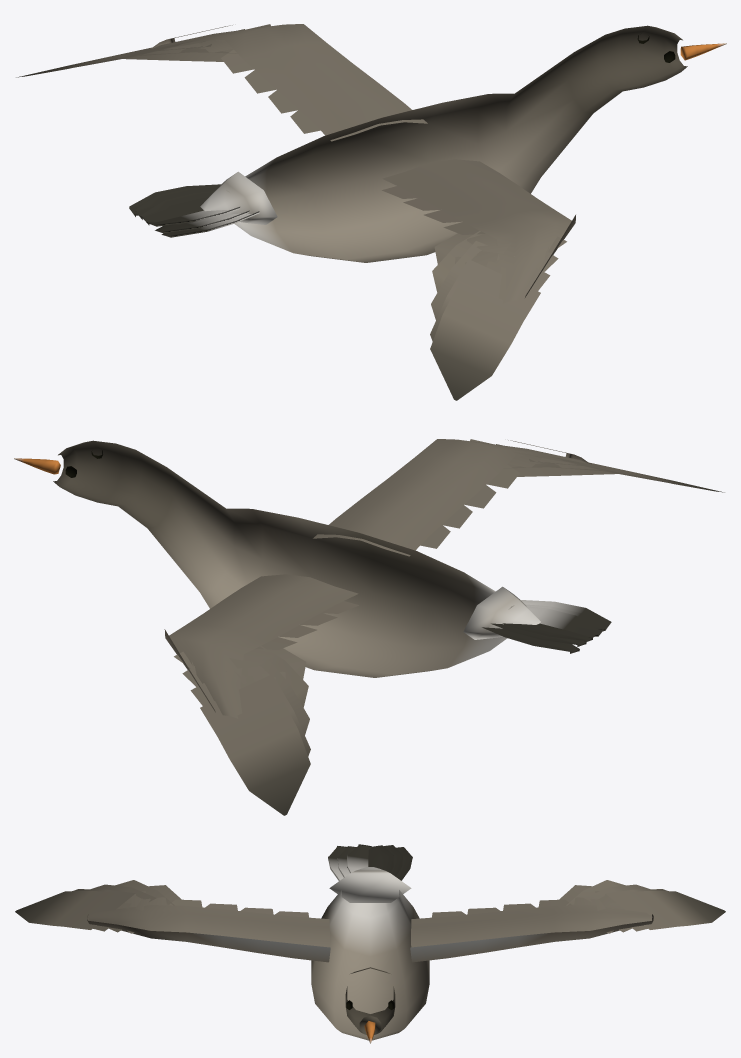
File: SM_Bird_goose_flap3_LOD1.glb
The picture shows the model from 3 angles, top to bottom: view 1: azimuth 30°, elevation 25°; view 2: azimuth 150°, elevation 25°; view 3: azimuth 270°, elevation 25°; orthographic projection. The views are drawn at different scales.
Parts seen in each view (by area): view 1: SM_Bird_goose_flap3_LOD1; view 2: SM_Bird_goose_flap3_LOD1; view 3: SM_Bird_goose_flap3_LOD1.
Part boxes in pixels (x1,y1,x2,y2): SM_Bird_goose_flap3_LOD1: (16,24,726,400); SM_Bird_goose_flap3_LOD1: (14,439,724,815); SM_Bird_goose_flap3_LOD1: (15,844,725,1043).
Bounding box in the file's own units: 0.8762 × 0.2388 × 1.16.
